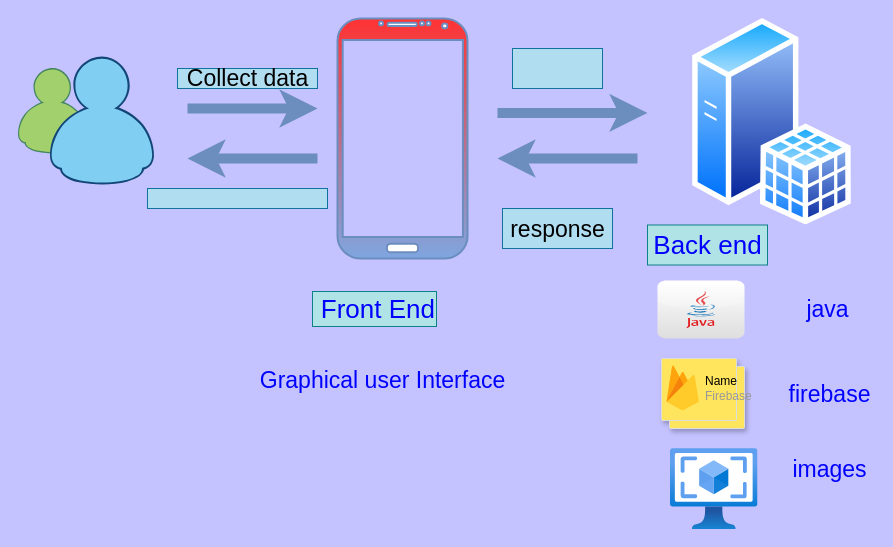
The diagram is 893 pixels wide and 547 high, and some of its shapes have lost their labels. The shapes that lost their labels are listed below. From the top down, each one's centre as x and y in pixels, then its label:
(x=557, y=68): request
(x=237, y=198): Display Resullts
